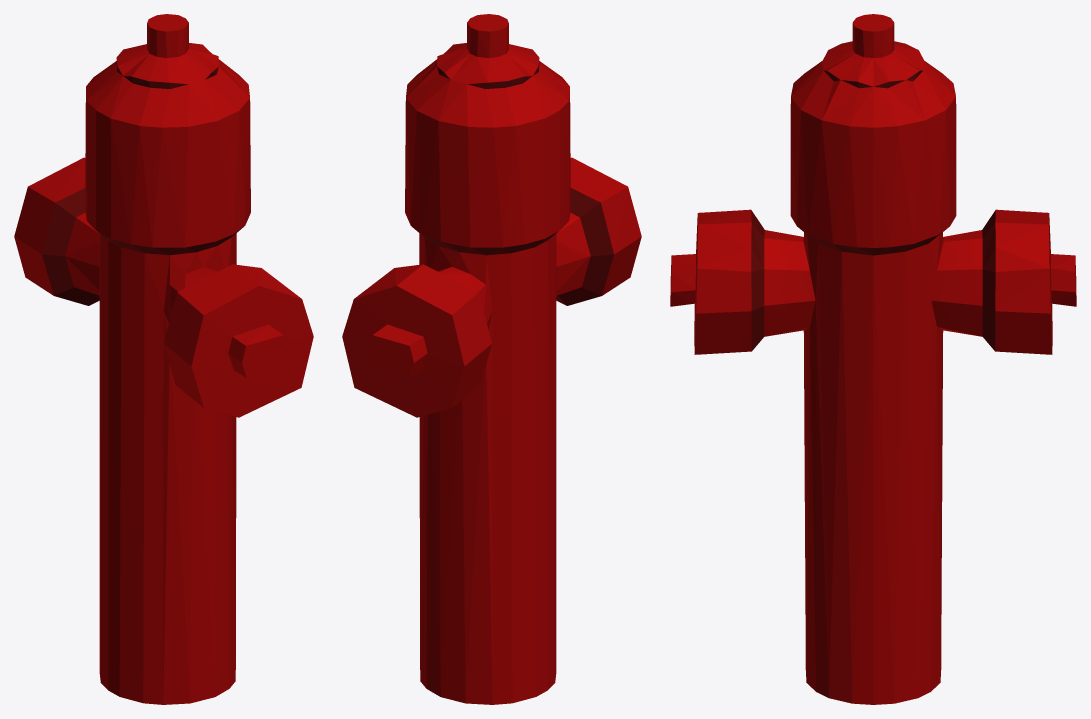
Rendered from Hydrant.fbx.
3 renders of one model, left to right at view 1: azimuth 30°, elevation 25°; view 2: azimuth 150°, elevation 25°; view 3: azimuth 270°, elevation 25°, orthographic.
Visible parts, largest first — view 1: Cylinder; view 2: Cylinder; view 3: Cylinder.
Boxes of the visible parts, x1,y1,x2,y2 form: Cylinder: [14, 14, 313, 704]; Cylinder: [342, 14, 641, 704]; Cylinder: [670, 14, 1076, 704].
Bounding box in the file's own units: 35.95 × 63.79 × 14.67.
